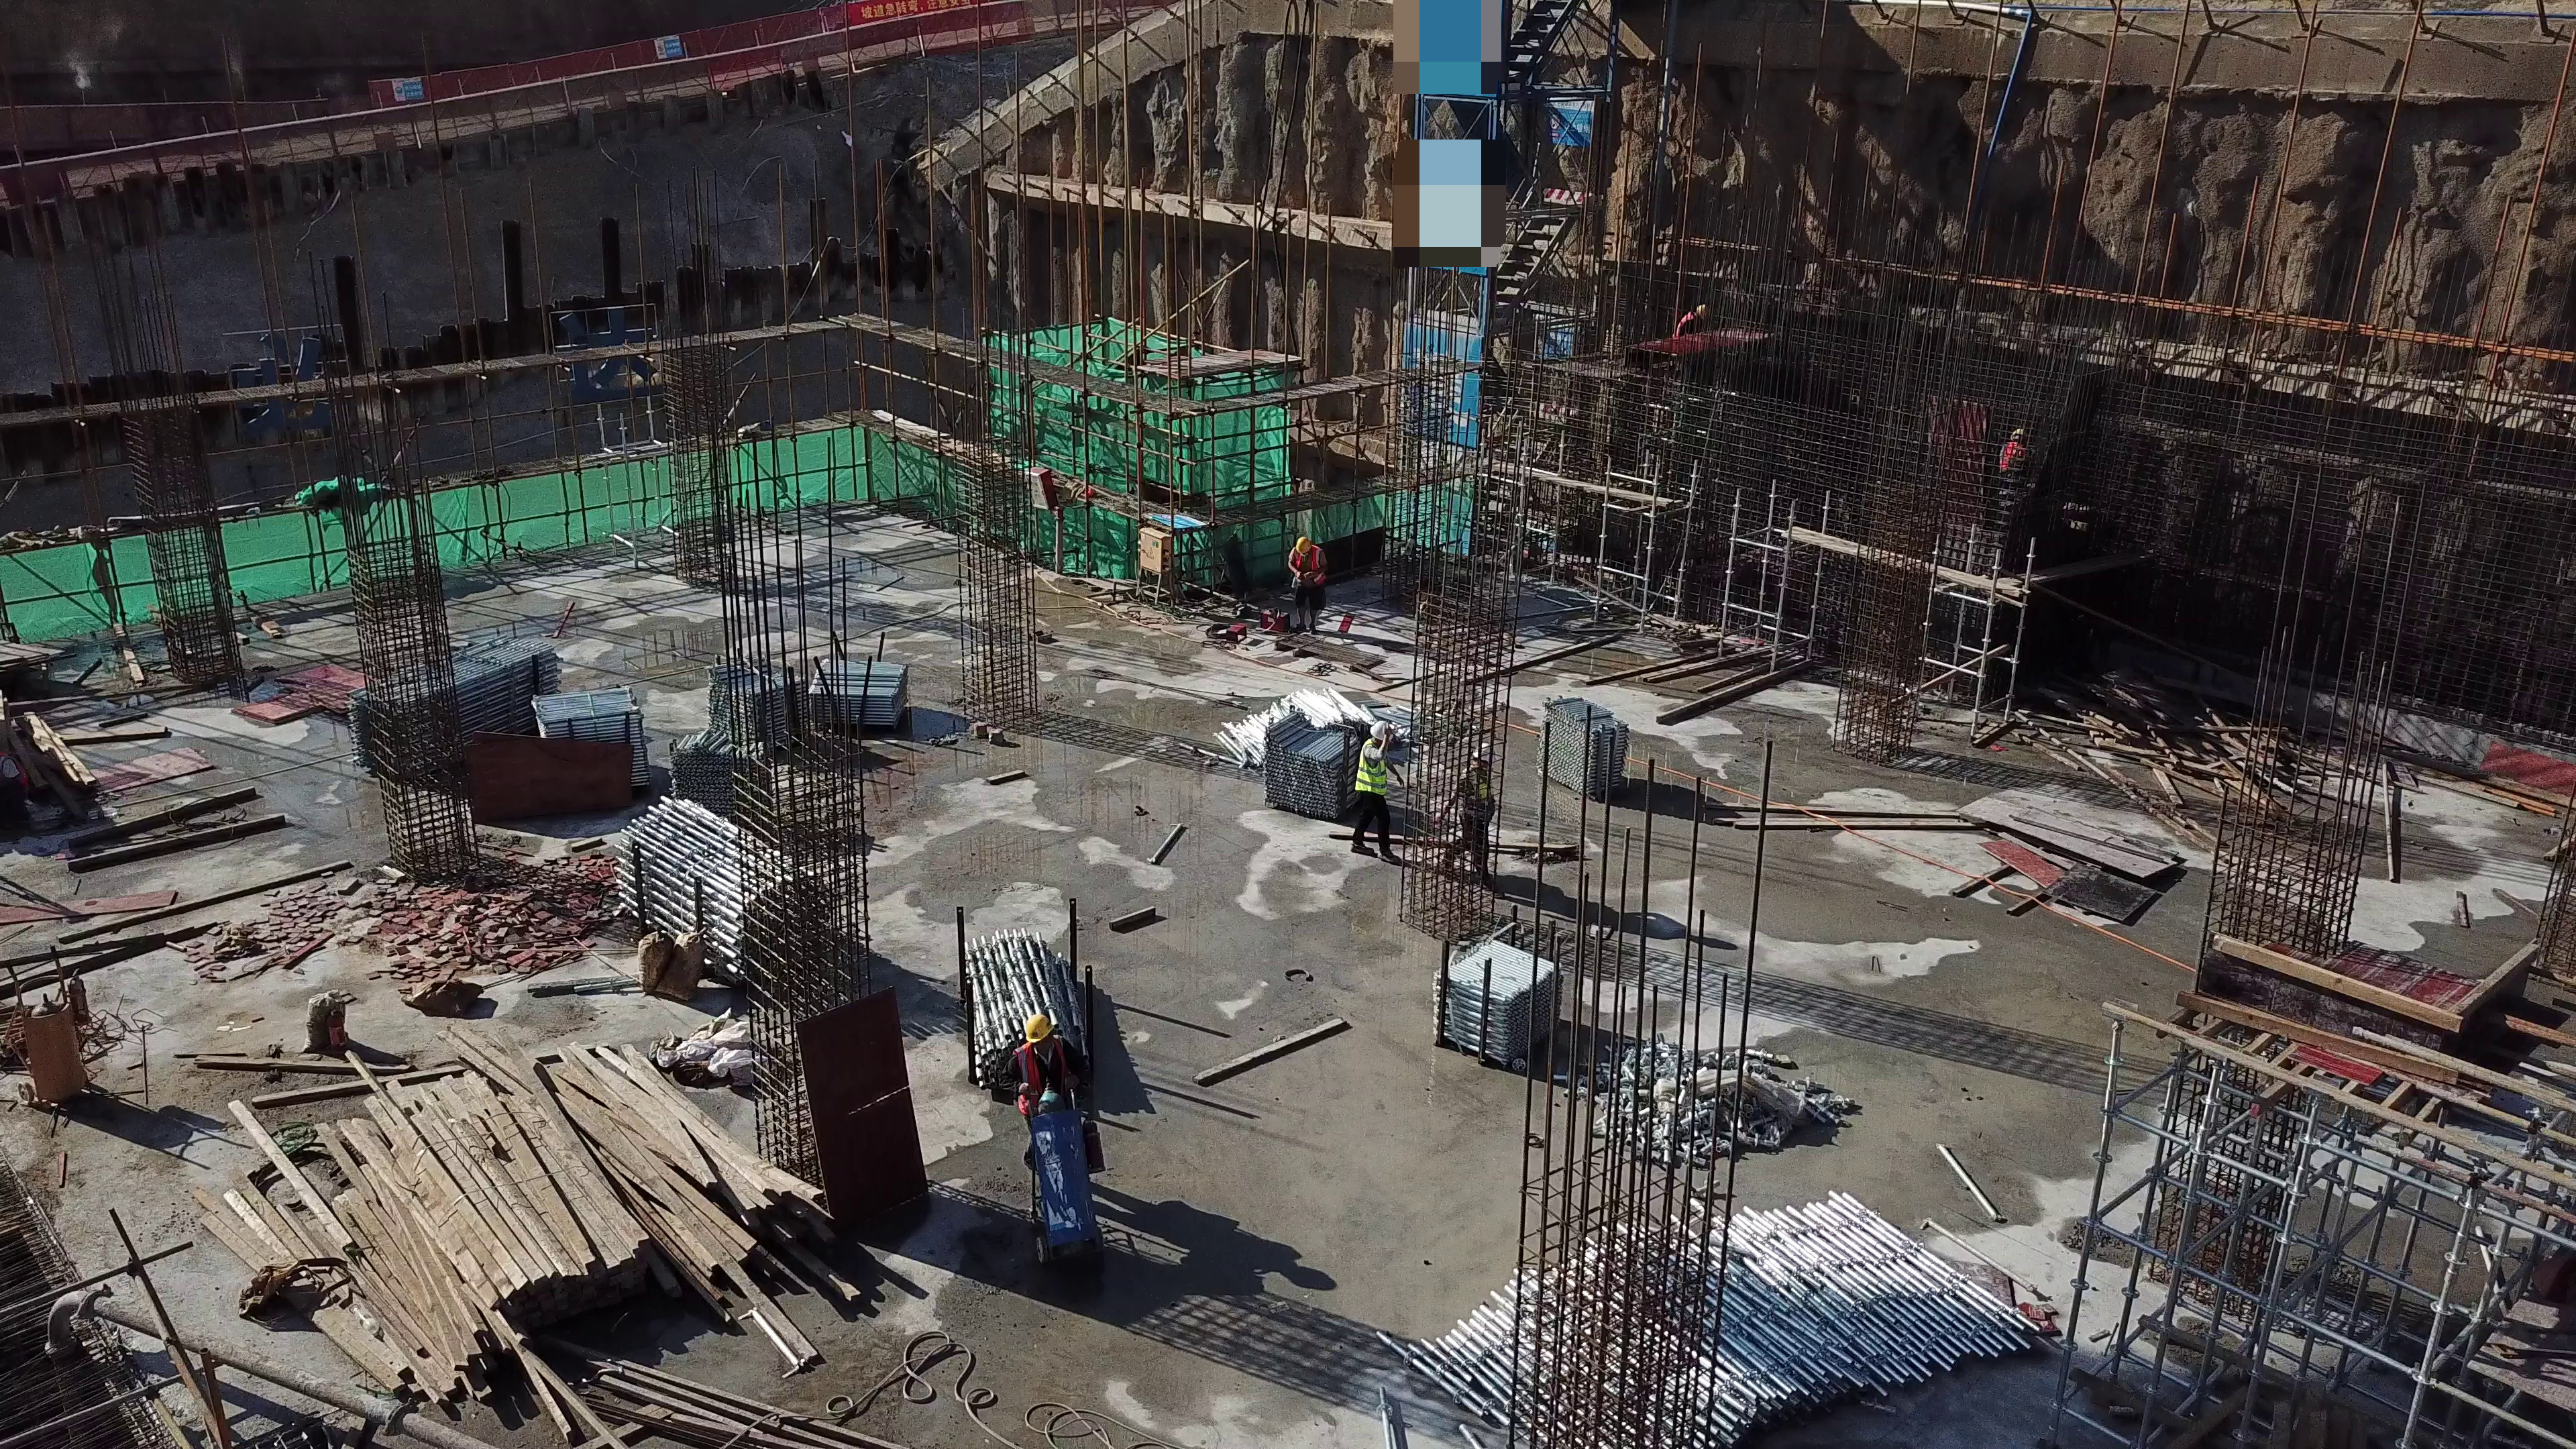ebox: (1134, 537, 1175, 595)
fence: (610, 8, 875, 94), (378, 60, 602, 111), (180, 116, 403, 167), (5, 149, 176, 204)
helmet: (1024, 1013, 1055, 1045), (1370, 721, 1393, 742), (1469, 742, 1492, 761), (1294, 537, 1312, 553), (1696, 301, 1709, 317)
person: (1004, 1014, 1089, 1161), (1444, 743, 1496, 893), (1347, 722, 1401, 863), (1284, 537, 1329, 635), (1676, 301, 1710, 341), (1, 754, 25, 799), (2001, 428, 2023, 479)
scaffold: (1407, 1184, 2055, 1446), (614, 790, 811, 977), (345, 638, 550, 776), (958, 922, 1080, 1075), (524, 678, 658, 800), (1221, 694, 1356, 812), (1441, 949, 1537, 1046), (674, 722, 757, 816), (803, 650, 898, 728), (706, 649, 783, 743), (1545, 696, 1619, 788)
slogan: (851, 1, 999, 23), (1548, 97, 1603, 154), (1141, 509, 1203, 532), (392, 79, 429, 103), (649, 38, 680, 57)
vest: (1015, 1040, 1073, 1112), (1357, 737, 1387, 795), (1293, 545, 1323, 586), (2002, 439, 2016, 470), (1679, 311, 1690, 336)
wood: (261, 1058, 799, 1316), (3, 695, 78, 796)
